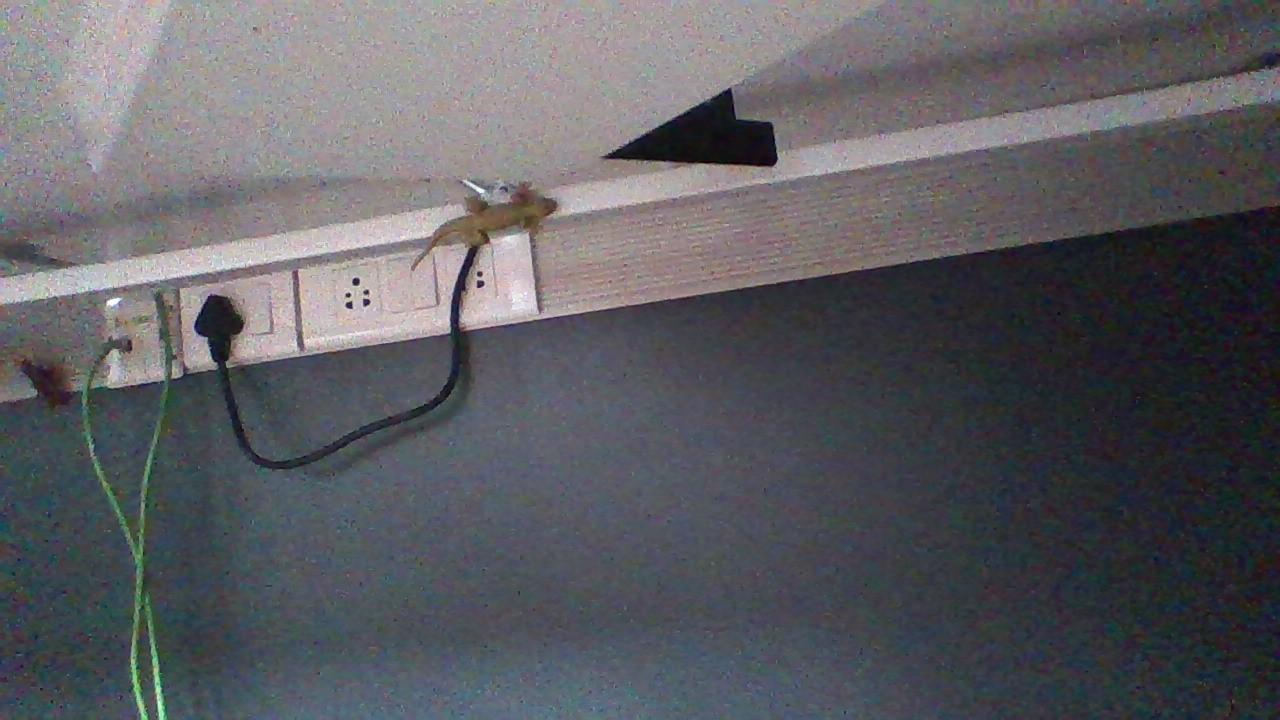cockroach: (15, 327, 83, 446)
lizard: (398, 175, 565, 277)
